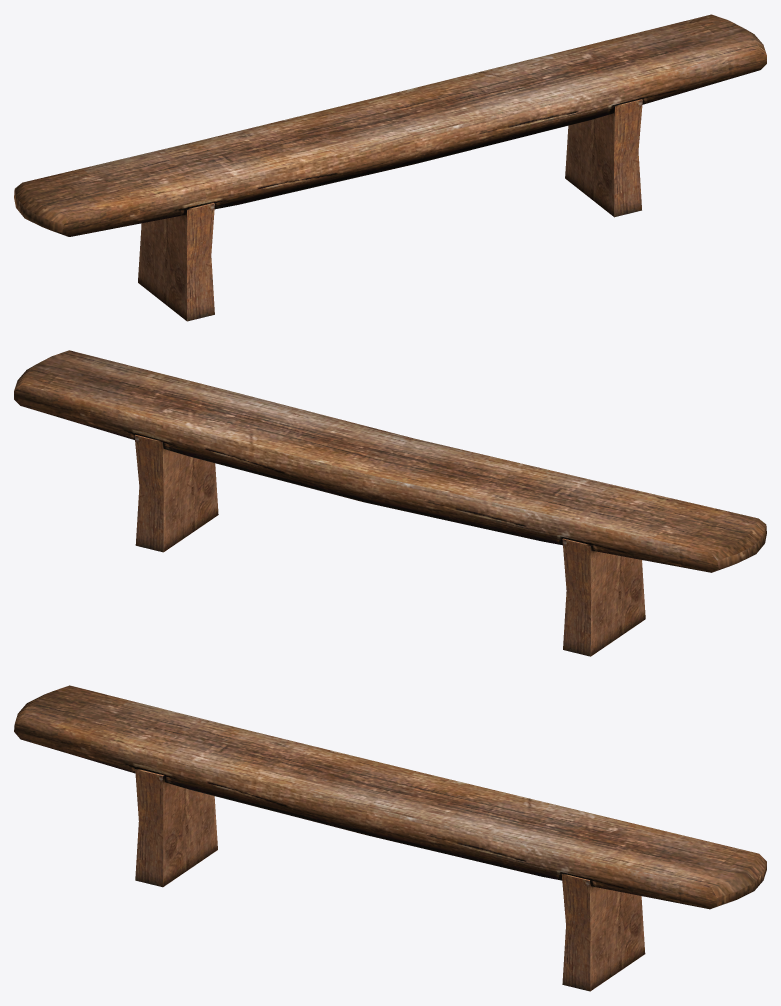
Rendered from zionbench.fbx.
3 views of the same model, one above another, from view 1: azimuth 30°, elevation 25°; view 2: azimuth 150°, elevation 25°; view 3: azimuth 330°, elevation 25° (orthographic).
Visible parts, largest first — view 1: mesh_0; view 2: mesh_0; view 3: mesh_0.
Boxes of the visible parts, x1,y1,x2,y2 form: mesh_0: [14, 14, 766, 321]; mesh_0: [14, 350, 766, 656]; mesh_0: [14, 685, 766, 991].
Bounding box in the file's own units: 297 × 50.94 × 38.82.
1 material, 1 textured.
